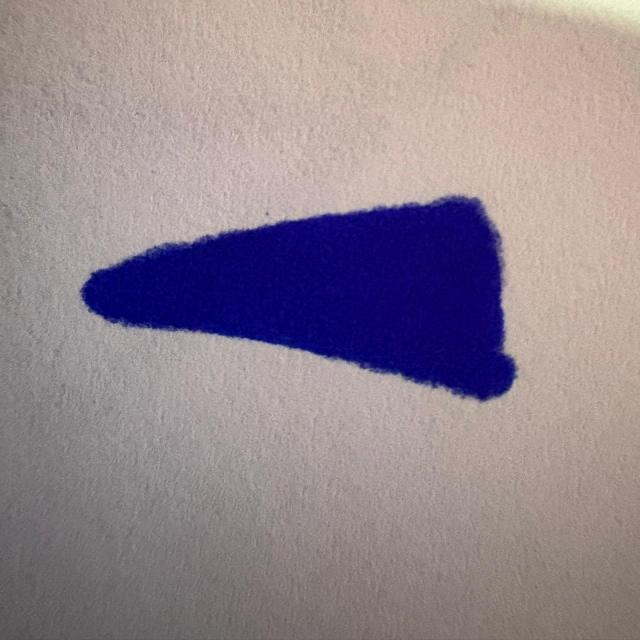Triangle: (81, 194, 529, 408)
